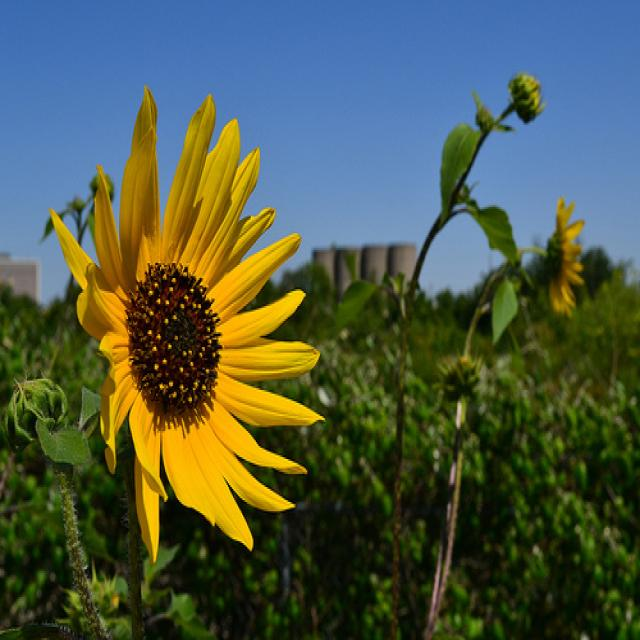sunflower: (76, 104, 313, 550)
